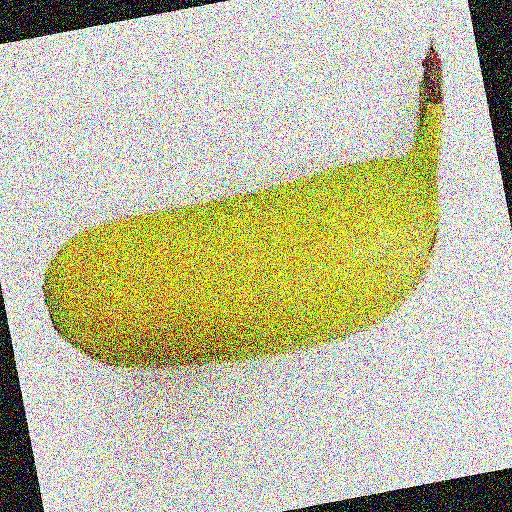fruit: (406, 22, 478, 179)
